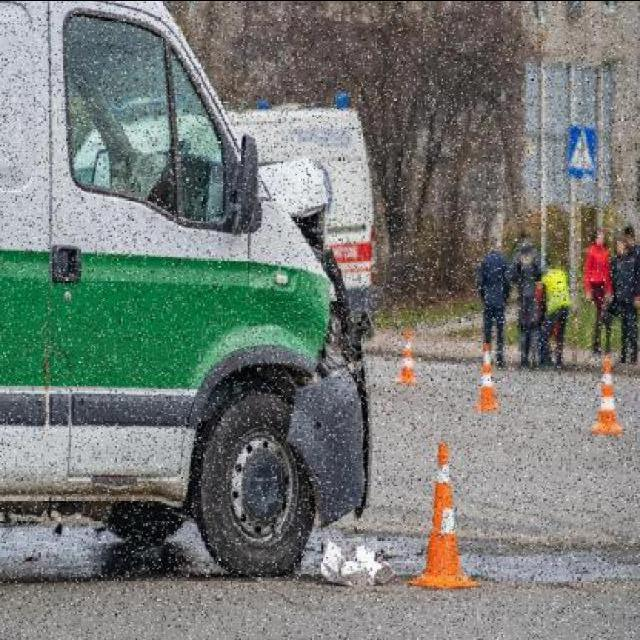front-bumper-dent: (297, 258, 389, 549)
